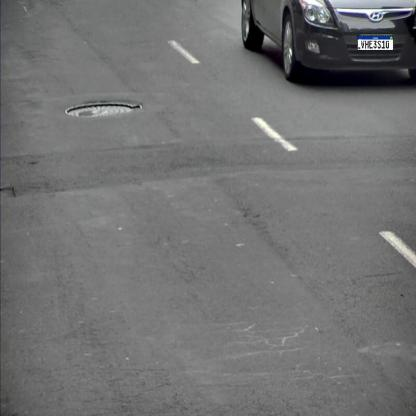PlacaM: (357, 35, 394, 51)
